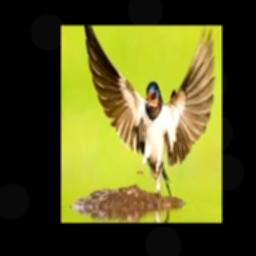Swallow: (84, 25, 214, 196)
